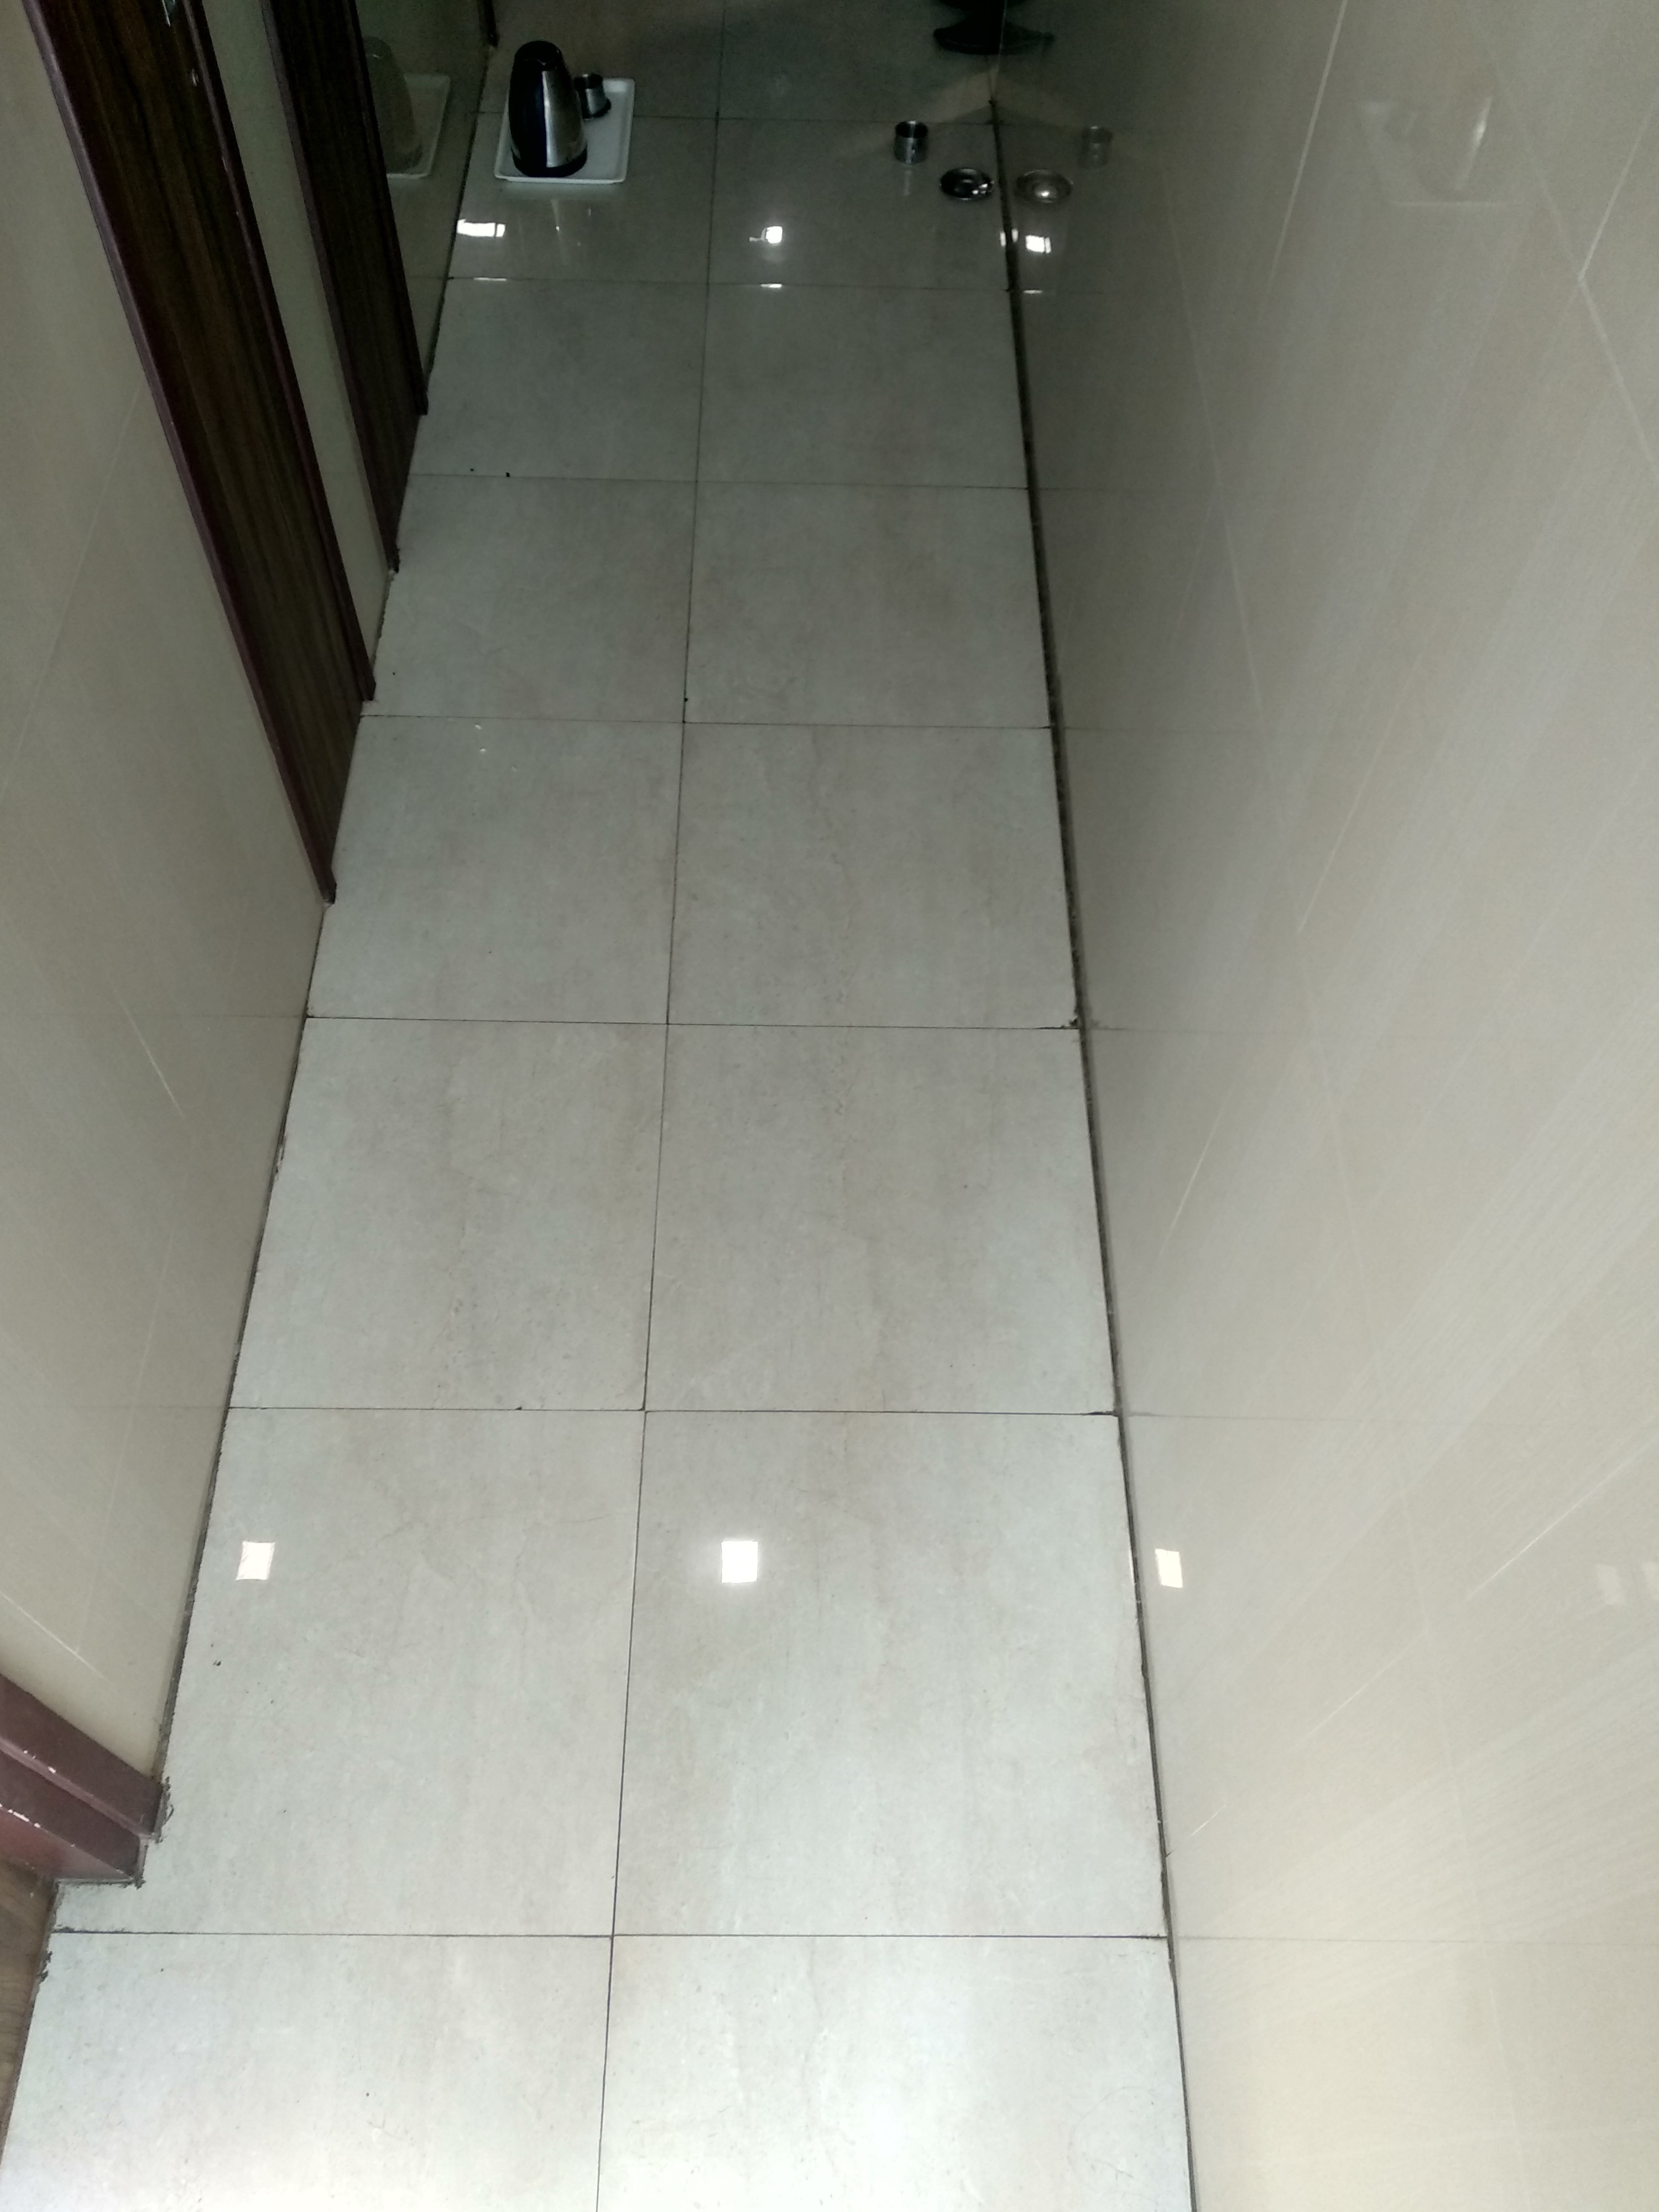CUP: (896, 124, 932, 164), (580, 70, 610, 118)
FLASK: (512, 47, 575, 181)
